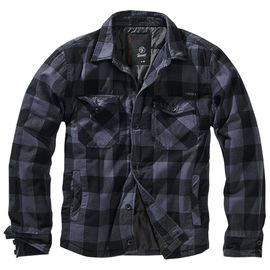squared: (6, 12, 266, 261)
